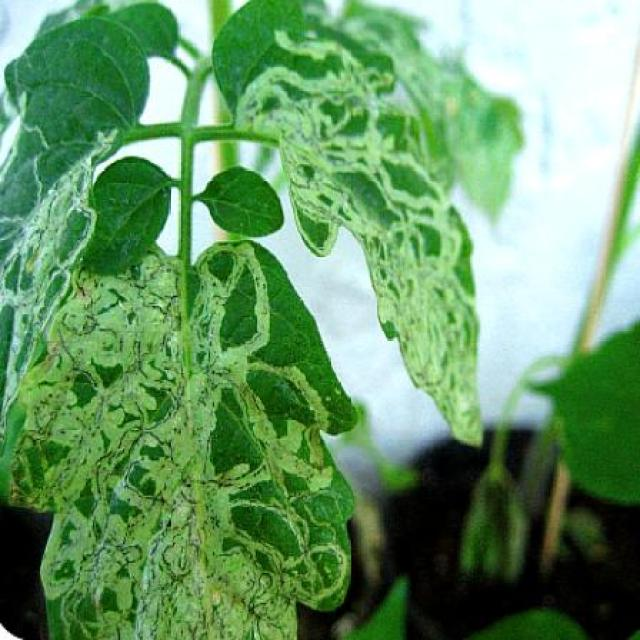Leaf Miner: (0, 238, 361, 640), (214, 0, 489, 450)
